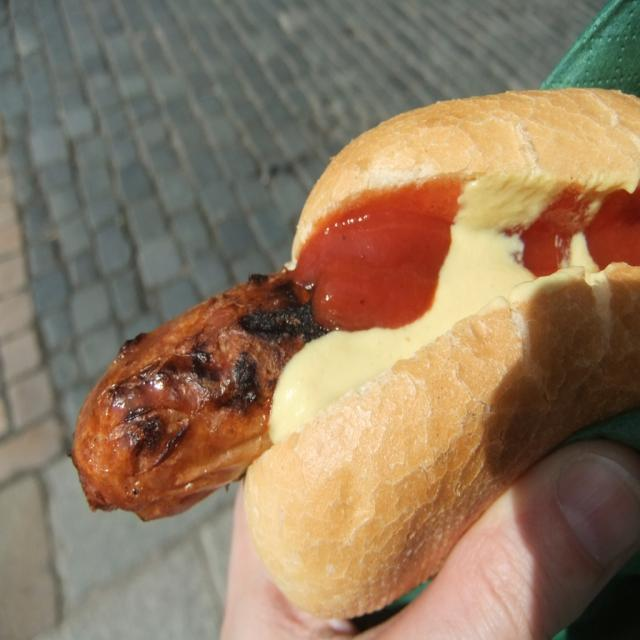Hot dog: (61, 89, 640, 625)
